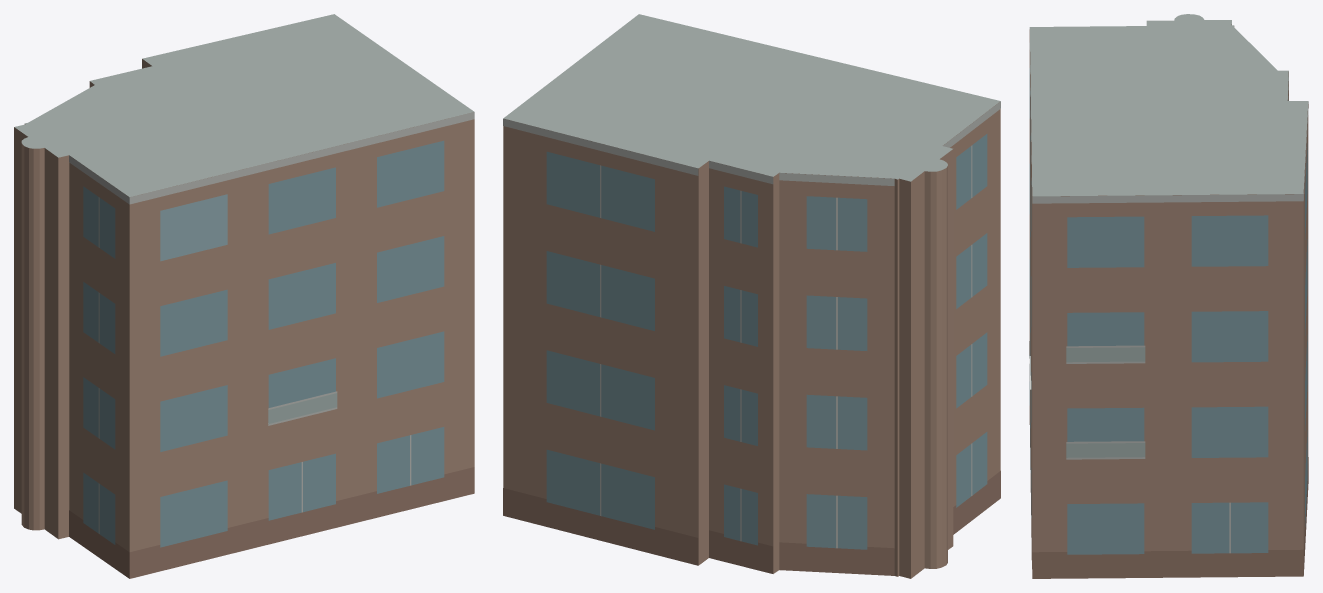
Rendered from survey-upis-32518396.glb.
The picture shows the model from 3 angles, left to right: view 1: azimuth 30°, elevation 25°; view 2: azimuth 150°, elevation 25°; view 3: azimuth 270°, elevation 25°; orthographic projection. The views are drawn at different scales.
Visible parts, largest first — view 1: survey-upis-32518396.tmp; view 2: survey-upis-32518396.tmp; view 3: survey-upis-32518396.tmp.
Boxes of the visible parts, <box> form: survey-upis-32518396.tmp: <box>14,14,474,578</box>; survey-upis-32518396.tmp: <box>503,14,1000,578</box>; survey-upis-32518396.tmp: <box>1029,14,1308,578</box>.
Bounding box in the file's own units: 13.11 × 12.8 × 8.46.
